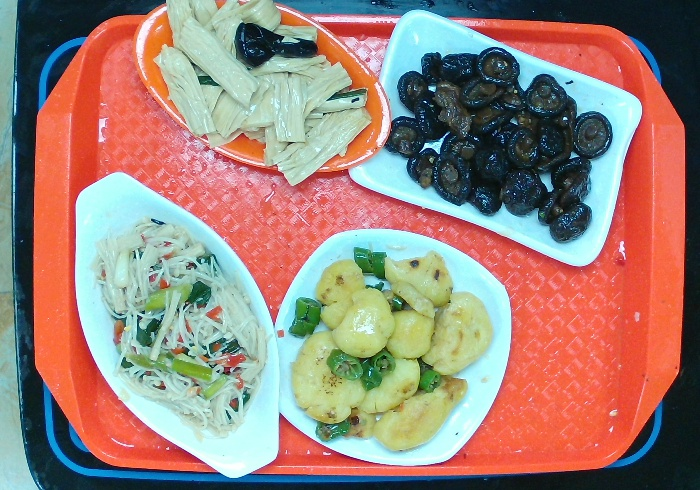RJxy-Ju_Huang_Tuo_Yuan: (133, 1, 396, 180)
RJxy-Si_Fang_Ao_Bian_Wan: (338, 8, 647, 272)
RJxy-Si_Fang_Die: (266, 219, 519, 471)
RJxy-Yu_Pan: (68, 163, 296, 483)
